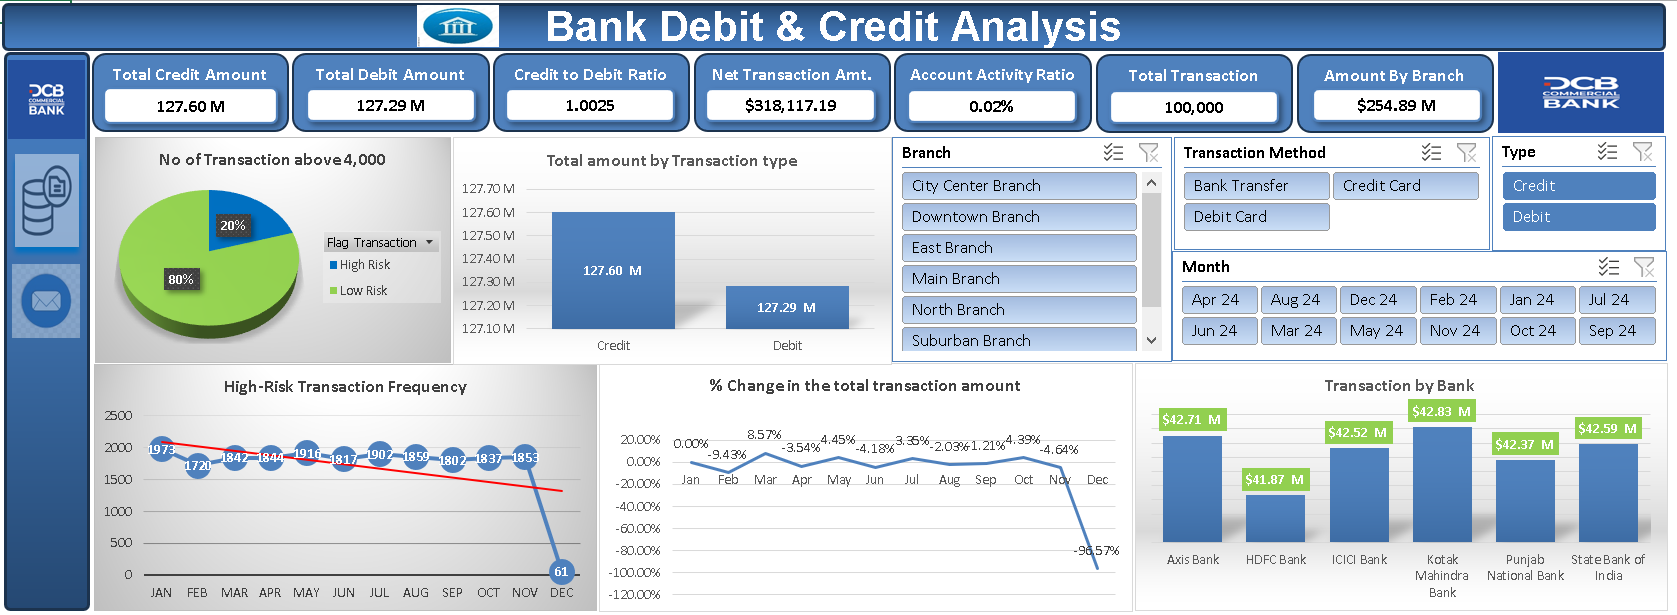

Layout of this report page (visuals, bound fields, positions):
{"tool":"tableau","page":{"name":"Dashboard 1","canvas":[1000,1000],"units":"permille","ordinal":0},"visuals":[{"type":"text","box":[4.8,9.3,989.7,76.7]},{"type":"image","param":"C:/Users/Vikrant/Desktop/Bank.jpg","box":[310.2,9.3,43.5,74.3]},{"type":"worksheet","title":"KPI 1","mark":"Automatic","box":[94.8,92.9,141.8,92.9]},{"type":"worksheet","title":"KPI 2","mark":"Automatic","box":[244.4,92.9,141.8,92.9]},{"type":"worksheet","title":"KPI 3","mark":"Automatic","box":[394.1,92.9,141.8,92.9]},{"type":"worksheet","title":"KPI 4","mark":"Automatic","box":[543.8,92.9,141.8,92.9]},{"type":"worksheet","title":"KPI 5","mark":"Automatic","box":[694,92.9,141.8,92.9]},{"type":"worksheet","title":"KPI","mark":"Automatic","box":[843.7,92.9,141.8,92.9]},{"type":"filter","title":"KPI 11","param":"[federated.1p9sx7m0sjzmzs17kiy6f1k3bstc].[none:Flag_Transaction:nk]","box":[5.4,94.1,81.6,73.2]},{"type":"filter","title":"KPI 9","param":"[federated.1p9sx7m0sjzmzs17kiy6f1k3bstc].[none:Transaction_Method:nk]","box":[5.4,167.2,81.6,73.2]},{"type":"worksheet","title":"KPI 7","mark":"Automatic","rows":["Amount"],"cols":["Branch"],"box":[94.8,200.9,328.9,382.1]},{"type":"worksheet","title":"KPI 8","mark":"Automatic","box":[429.7,200.9,298.7,382.1]},{"type":"worksheet","title":"KPI 11","mark":"Pie","box":[736.3,200.9,249.8,382.1]},{"type":"filter","title":"KPI 7","param":"[federated.1p9sx7m0sjzmzs17kiy6f1k3bstc].[none:Branch:nk]","box":[5.4,240.4,81.6,67.4]},{"type":"filter","title":"KPI 8","param":"[federated.1p9sx7m0sjzmzs17kiy6f1k3bstc].[none:Bank_Name:nk]","box":[5.4,307.8,81.6,66.2]},{"type":"worksheet","title":"Sheet 14","mark":"Automatic","rows":["Bank_Name"],"box":[94.8,597,373.6,382.1]},{"type":"worksheet","title":"KPI 9","mark":"Pie","box":[475.6,597,296.3,382.1]},{"type":"worksheet","title":"KPI 6","mark":"Square","rows":["Month"],"box":[779.1,597,207,382.1]}]}

Visuals, with their boxes on the dashboard's canvas, which has no fixed pixel size, in thousandths of its width and height (x1, y1, x2, y2). These are canvas units, not pixel positions in the 1677x615 screenshot, which may show the page scaled, cropped or inside an application window:
text: (5, 9, 994, 86)
image: (310, 9, 354, 84)
"KPI 1" worksheet: (95, 93, 237, 186)
"KPI 2" worksheet: (244, 93, 386, 186)
"KPI 3" worksheet: (394, 93, 536, 186)
"KPI 4" worksheet: (544, 93, 686, 186)
"KPI 5" worksheet: (694, 93, 836, 186)
"KPI" worksheet: (844, 93, 986, 186)
"KPI 11" filter: (5, 94, 87, 167)
"KPI 9" filter: (5, 167, 87, 240)
"KPI 7" worksheet: (95, 201, 424, 583)
"KPI 8" worksheet: (430, 201, 728, 583)
"KPI 11" worksheet (Pie marks): (736, 201, 986, 583)
"KPI 7" filter: (5, 240, 87, 308)
"KPI 8" filter: (5, 308, 87, 374)
"Sheet 14" worksheet: (95, 597, 468, 979)
"KPI 9" worksheet (Pie marks): (476, 597, 772, 979)
"KPI 6" worksheet (Square marks): (779, 597, 986, 979)
